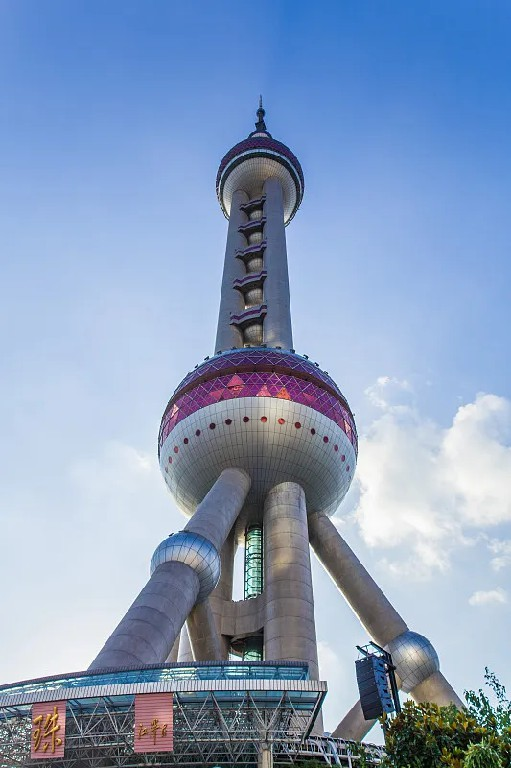Oriental: (87, 95, 464, 708)
